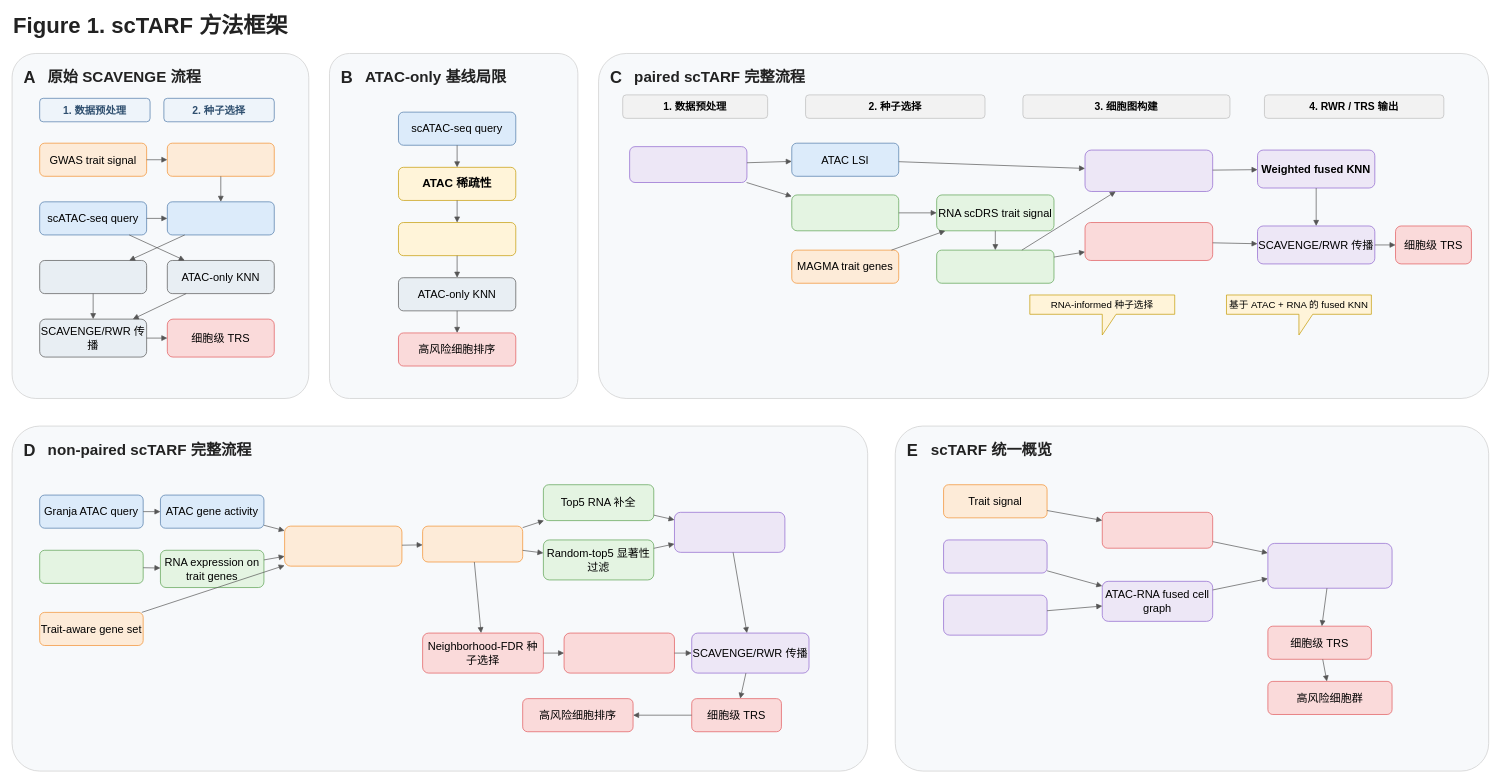
This 1501x783 diagram has some shape labels left out. The centre of each missing label's shape, as x and y in pixels:
"ATAC LSI + RNA trait 表征" belongs at point 1148,170.
"ATAC-only 种子细胞" belongs at point 93,277.
"ATAC-to-RNA top-k matching" belongs at point 343,545.
"Fine-mapped variants" belongs at point 220,159.
"g-chromVAR z-score" belongs at point 220,218.
"Non-paired ATAC + RNA reference" belongs at point 995,614.
"Paired BMMC multiome" belongs at point 688,164.
"Paired multiome" belongs at point 995,556.
"RNA reference" belongs at point 91,566.
"RNA-informed seeds" belongs at point 1157,530.
"scDRS norm_score" belongs at point 995,266.
"scRNA-seq / RNA reference" belongs at point 845,212.
"scTARF fusion + RWR/TRS" belongs at point 1329,565.
"Top 1% RNA-informed 种子" belongs at point 1148,241.
"Trait-aware 种子选择" belongs at point 618,652.
"映射权重" belongs at point 472,543.
"种子偏移" belongs at point 457,239.
"稀疏 fused 表征" belongs at point 729,532.
